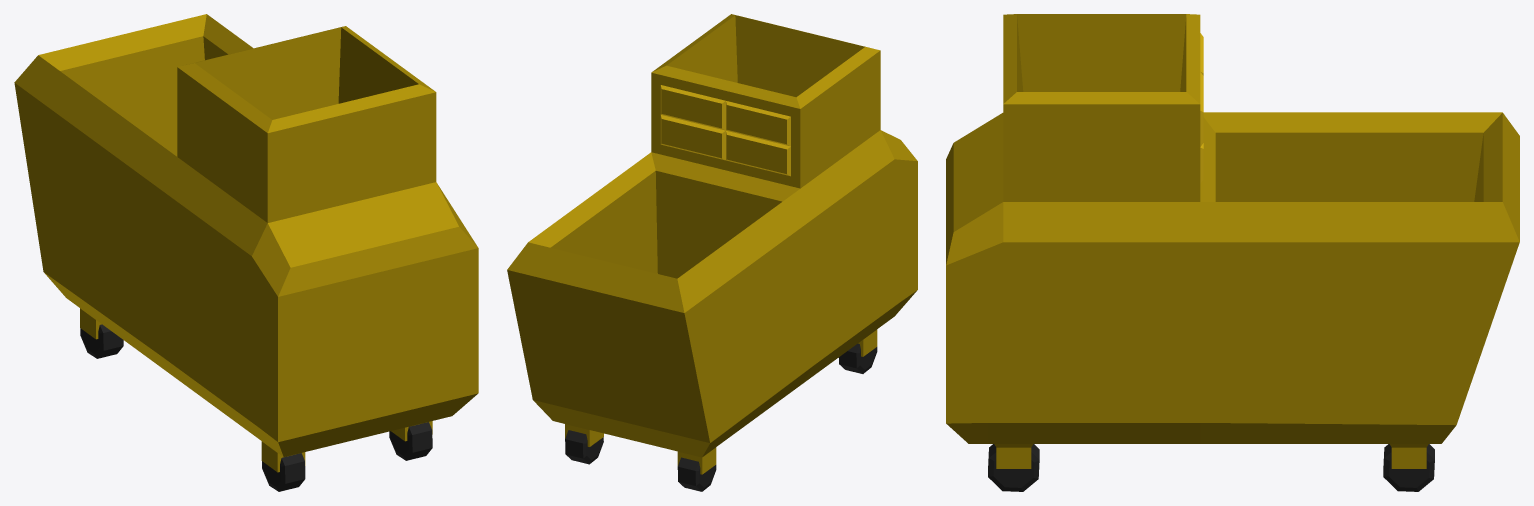
File: MopBucketV2Empty.fbx
3 views of the same model, side by side, from view 1: azimuth 30°, elevation 25°; view 2: azimuth 150°, elevation 25°; view 3: azimuth 270°, elevation 25° (orthographic). The views are drawn at different scales.
Parts seen in each view (by area): view 1: MopBucketV2Empty; view 2: MopBucketV2Empty; view 3: MopBucketV2Empty.
Boxes of the visible parts, x1,y1,x2,y2 form: MopBucketV2Empty: (14,14,478,491); MopBucketV2Empty: (507,14,917,491); MopBucketV2Empty: (946,14,1519,491).
Size of the model in its own units: 27.96 by 49.01 by 63.71.
